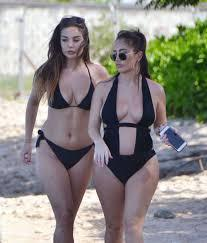Person: (87, 28, 191, 243), (16, 13, 106, 238)
